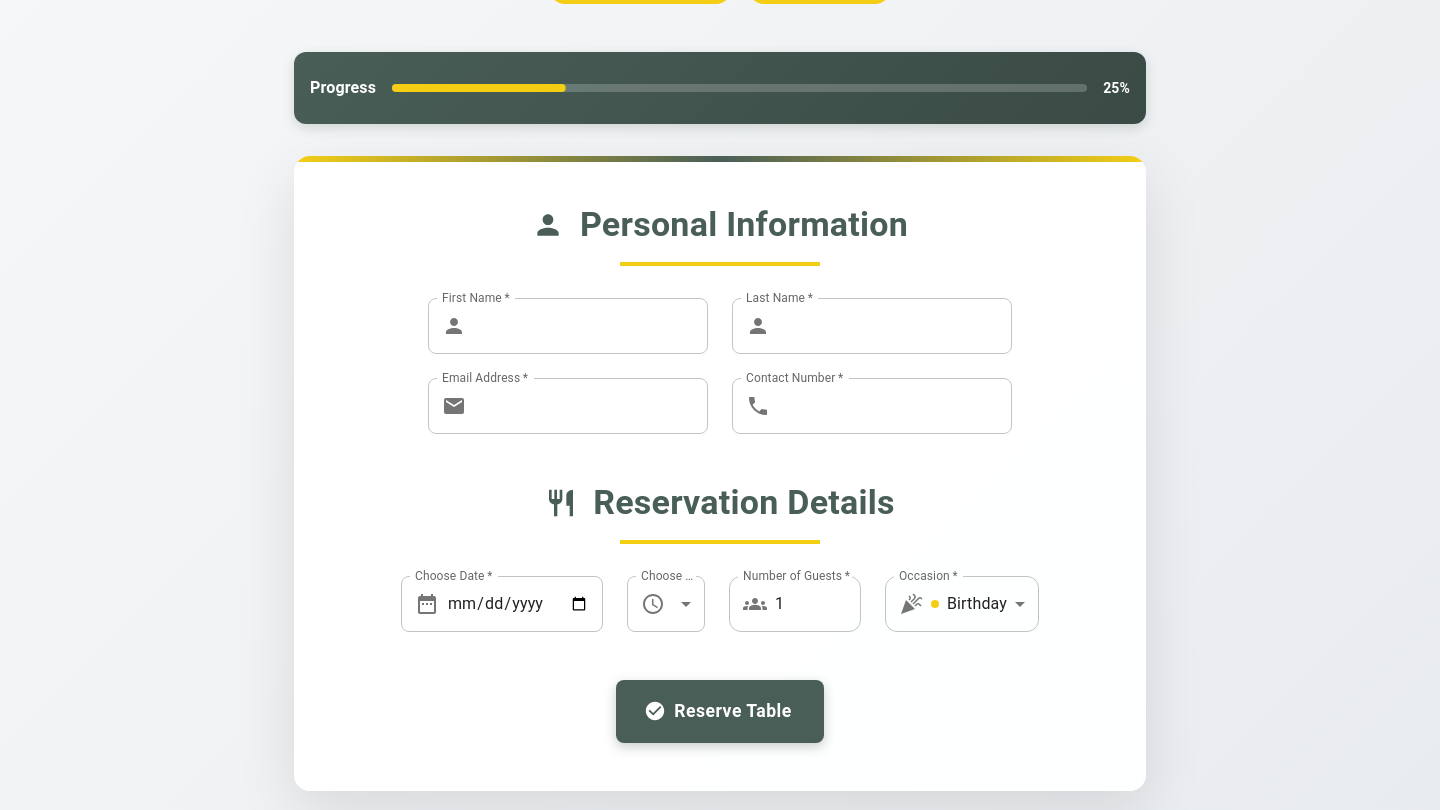
Test: BookingForm with Formik validation › validates email format
(page scrolled)
Type "invalid-email" into the field labelled "Email Address *".
click(591, 406); type("invalid-email")  # box [474,378,708,434]
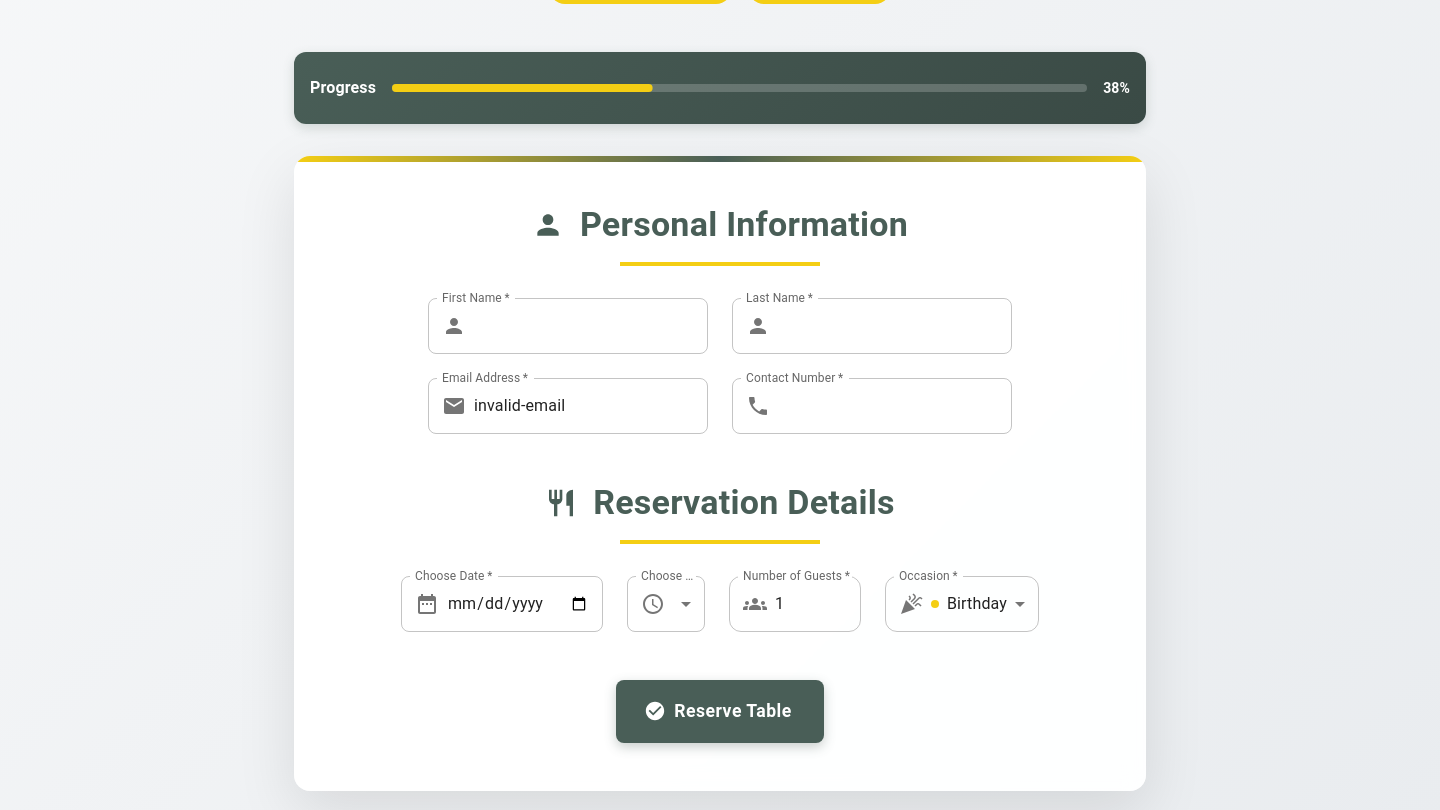
Leave the field labelled "Email Address *", box [474,378,708,434]
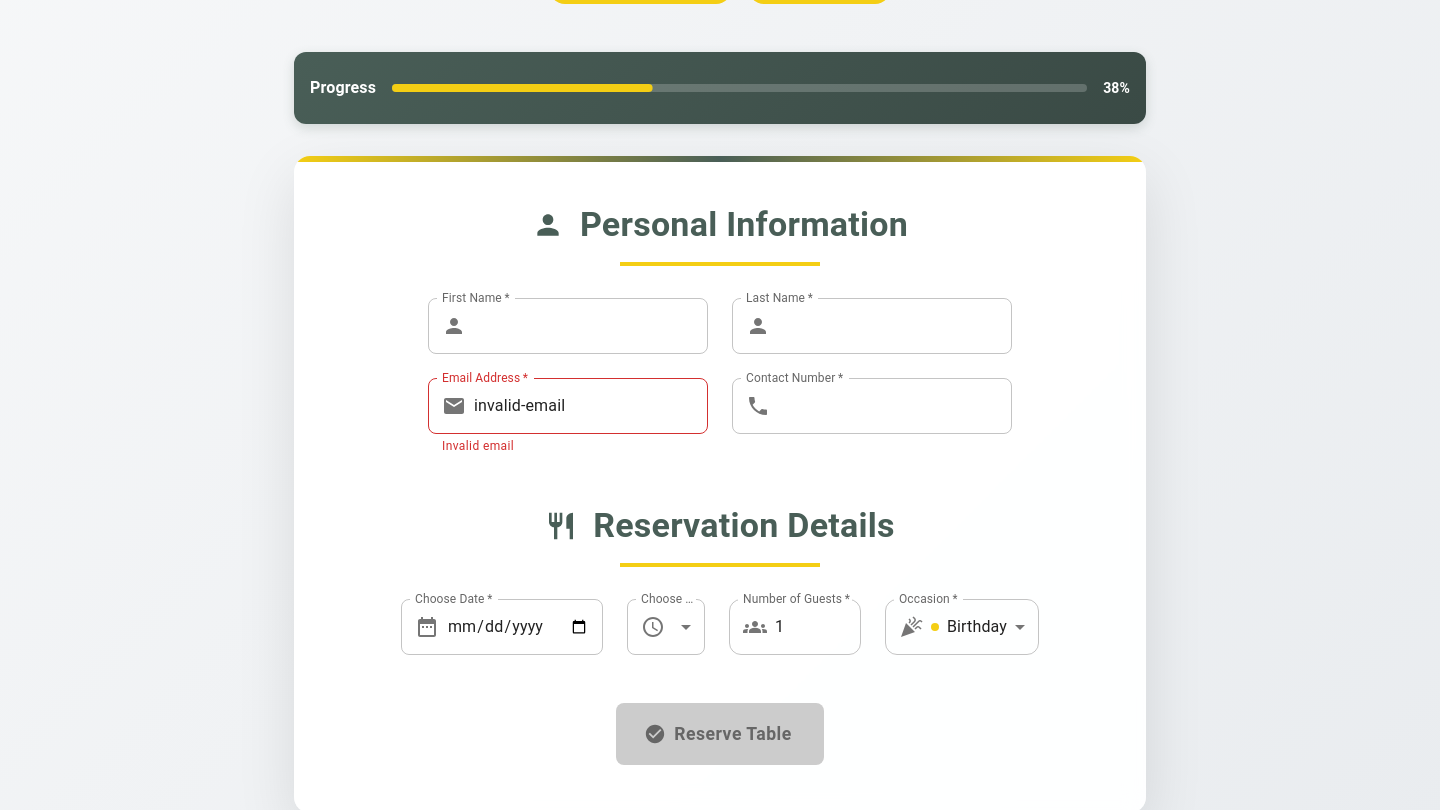
Check: the text "Invalid email" is shown, box [442,439,514,453]
